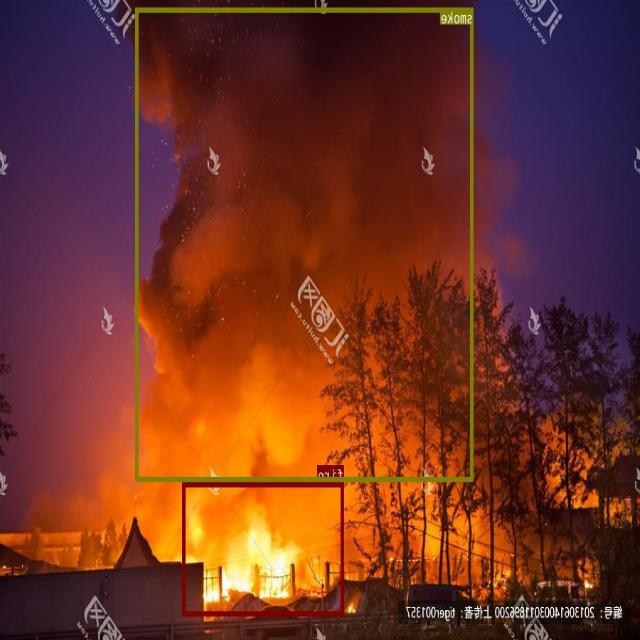fire: (183, 482, 345, 615)
smoke: (136, 7, 474, 481)
